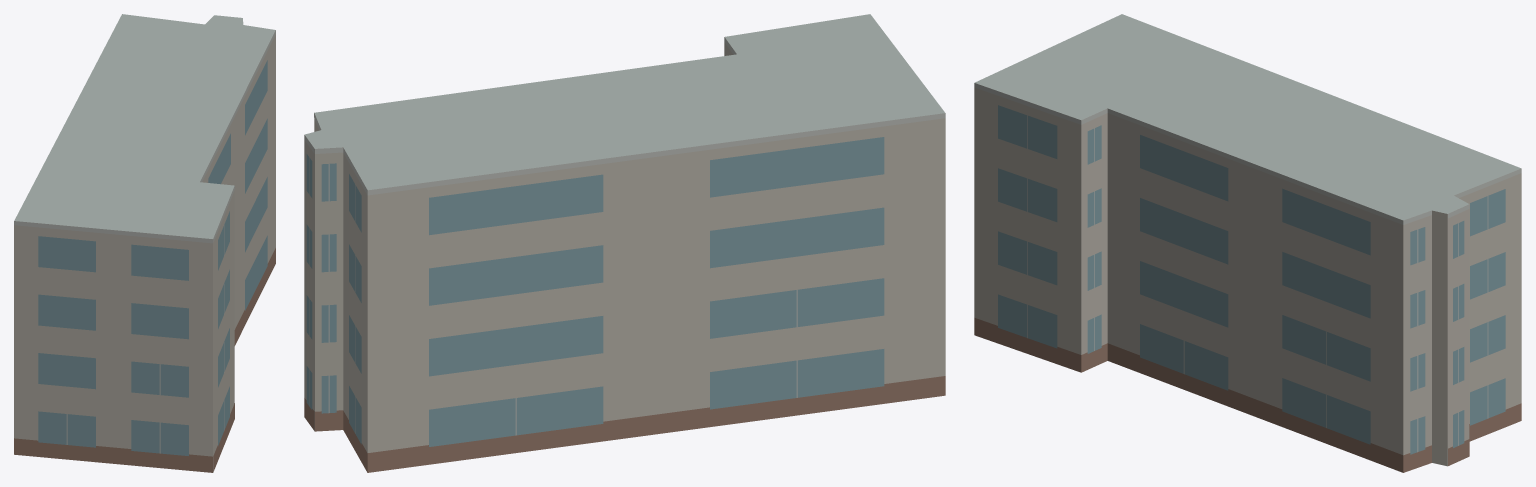
File: survey-upis-32562287.glb
3 renders of one model, left to right at view 1: azimuth 30°, elevation 25°; view 2: azimuth 150°, elevation 25°; view 3: azimuth 270°, elevation 25°, orthographic. The views are drawn at different scales.
Parts seen in each view (by area): view 1: survey-upis-32562287.tmp; view 2: survey-upis-32562287.tmp; view 3: survey-upis-32562287.tmp.
Boxes of the visible parts, x1=… form: survey-upis-32562287.tmp: x1=14, y1=14, x2=275, y2=472; survey-upis-32562287.tmp: x1=304, y1=14, x2=945, y2=472; survey-upis-32562287.tmp: x1=974, y1=14, x2=1521, y2=472.
Size of the model in its own units: 23.52 by 13.4 by 26.35.
